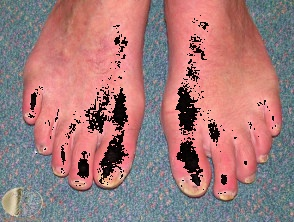Nail_psoriasis: (177, 173, 209, 199), (97, 166, 127, 189), (68, 174, 90, 192), (216, 190, 238, 202), (242, 172, 260, 186), (271, 120, 284, 132), (36, 141, 49, 153), (258, 153, 269, 164), (24, 113, 36, 117)
